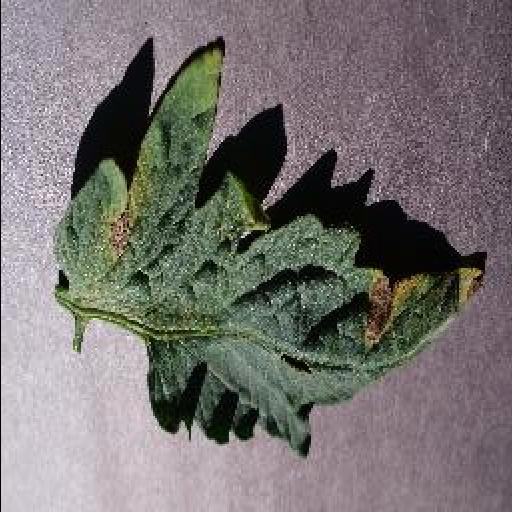disease_tomato: (57, 42, 487, 460)
